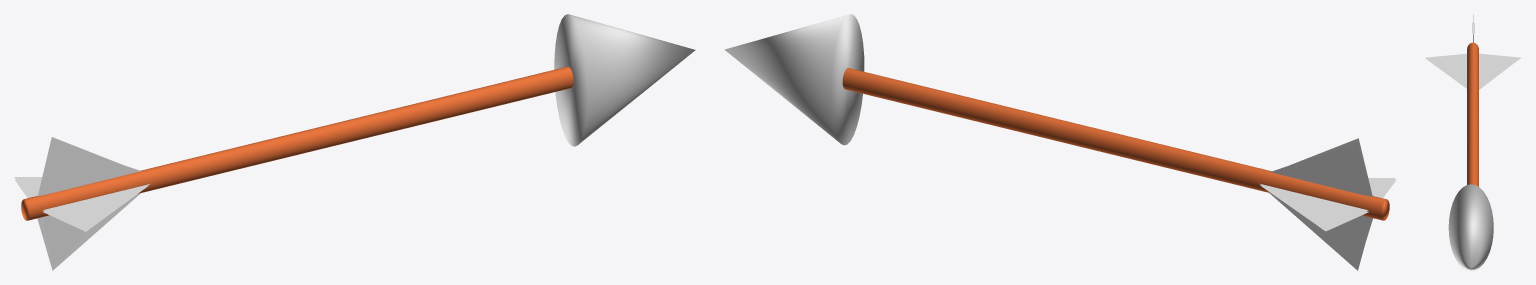
The model's file is Flecha.fbx.
3 renders of one model, left to right at view 1: azimuth 30°, elevation 25°; view 2: azimuth 150°, elevation 25°; view 3: azimuth 270°, elevation 25°, orthographic. The views are drawn at different scales.
Parts seen in each view (by area): view 1: Cylinder, Cone, Plane.002; view 2: Cylinder, Cone, Plane.002; view 3: Cone, Cylinder, Plane.002.
Part boxes in pixels (x1,y1,x2,y2): Cylinder: (21,66,573,220); Cone: (554,14,695,146); Plane.002: (14,137,149,270); Cylinder: (842,68,1389,220); Cone: (724,14,864,145); Plane.002: (1259,138,1396,270); Cone: (1448,184,1493,270); Cylinder: (1467,42,1478,186); Plane.002: (1425,14,1521,89).
Bounding box in the file's own units: 4.94 × 0.9477 × 0.9287.
